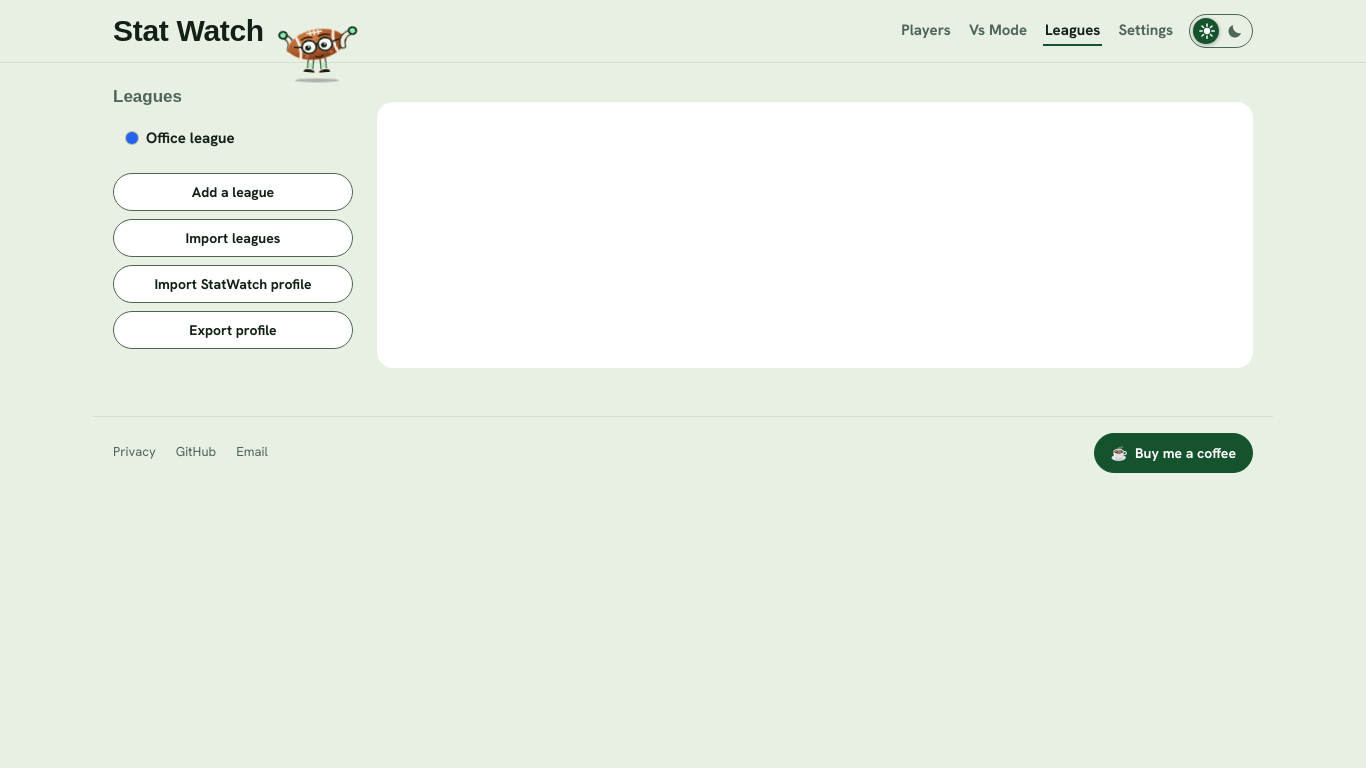
leagues page › collapsible boxes › can fold the stepped rules and the points-allowed ranges of an imported league too
What coordinates should you click on to do the following:
click the button "Office league"
I would click on:
 (233, 139)
Its box is x1=113 y1=117 x2=353 y2=161.
(page scrolled)
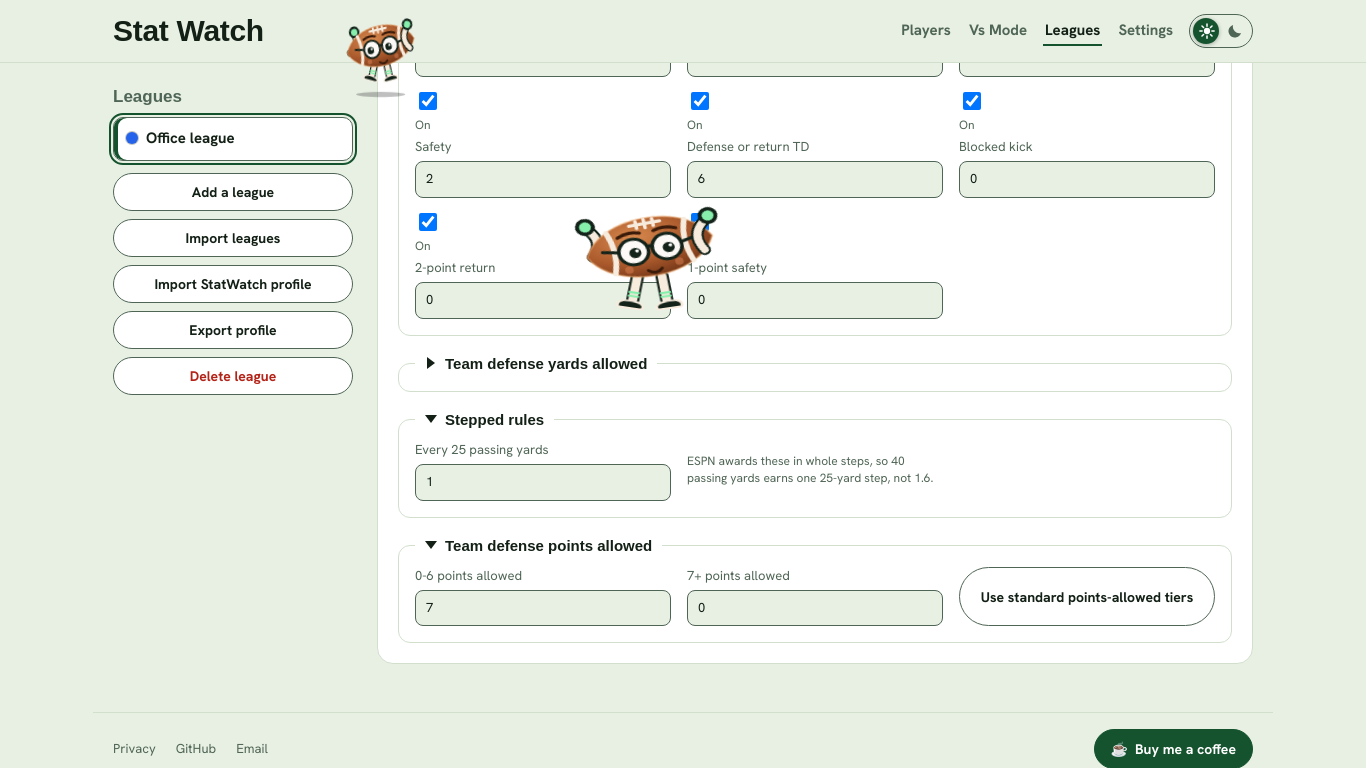
What coordinates should you click on to do the following:
click the button "Stepped rules"
I would click on:
 (485, 420)
Its box is x1=421 y1=410 x2=548 y2=429.
(page scrolled)
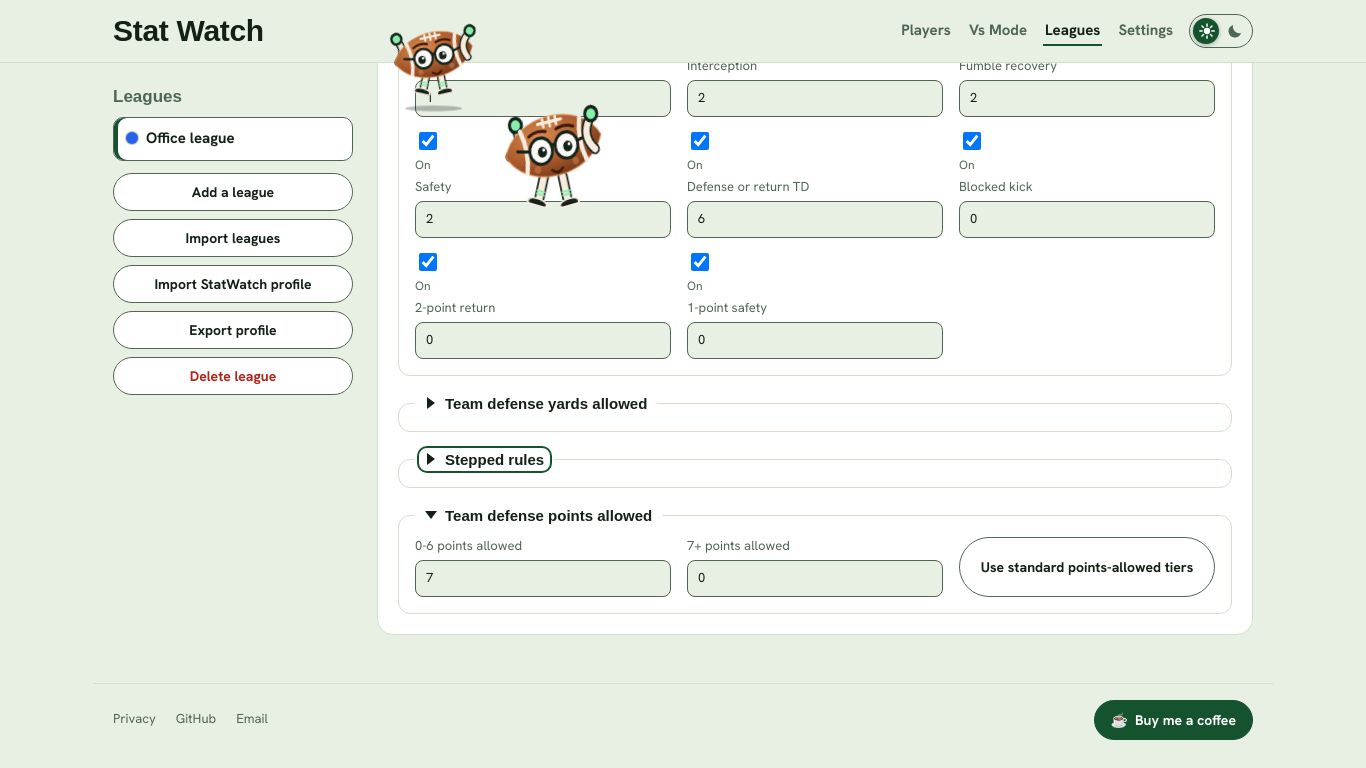
expect the button "Stepped rules" is collapsed: met, box x1=421 y1=450 x2=548 y2=469
What coordinates should you click on to do the following:
click the button "Team defense points allowed"
I would click on:
 (539, 516)
Its box is x1=421 y1=506 x2=656 y2=525.
(page scrolled)
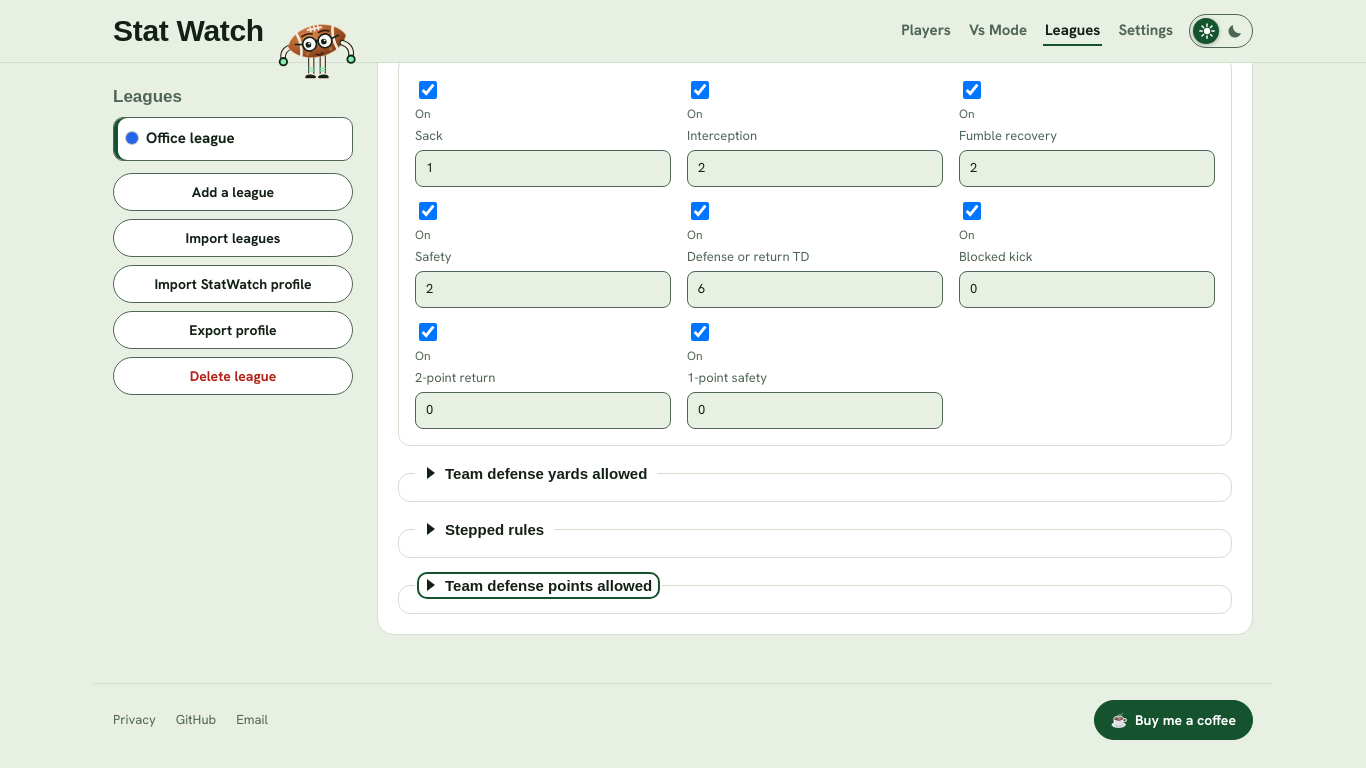
expect the label labelled "Every 25 passing yards" is not shown: met
expect the button "Team defense points allowed" is collapsed: met, box x1=421 y1=576 x2=656 y2=595
